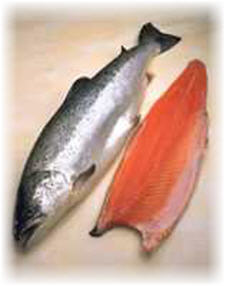fish: (2, 21, 184, 250)
